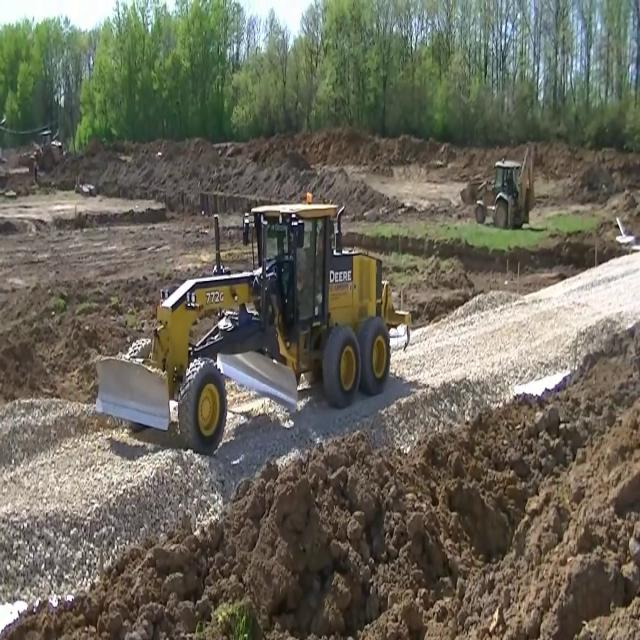buldozerpayloadergrader: (95, 207, 402, 456), (461, 140, 533, 224)
